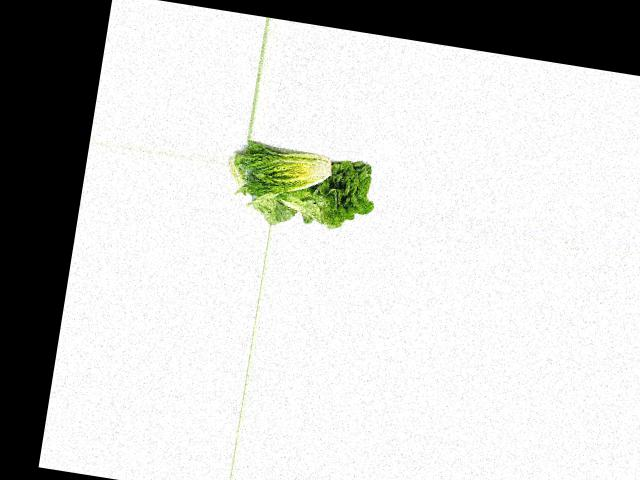lettuce: (279, 145, 378, 234)
